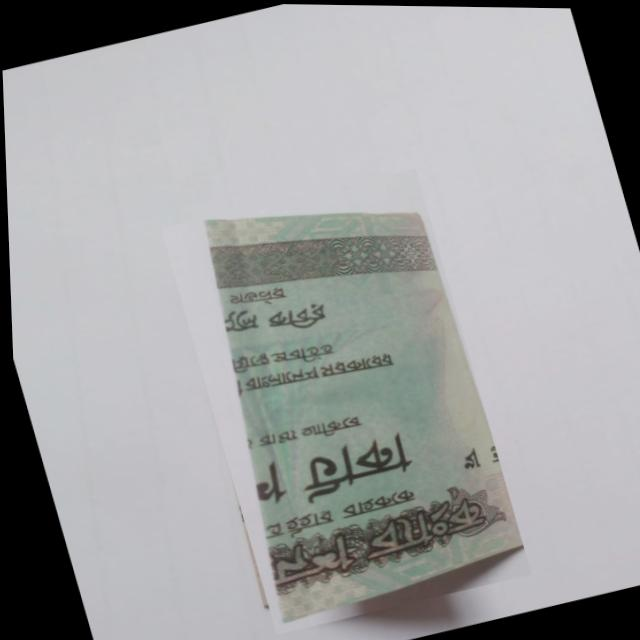Taka: (157, 163, 528, 636)
